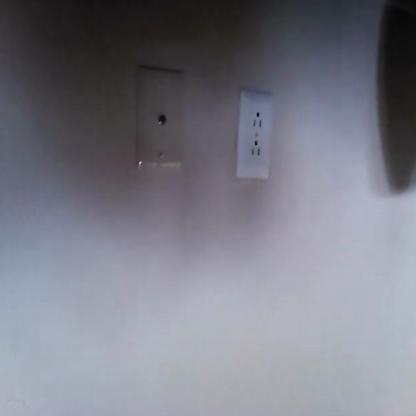OUTLET: (235, 90, 273, 180)
